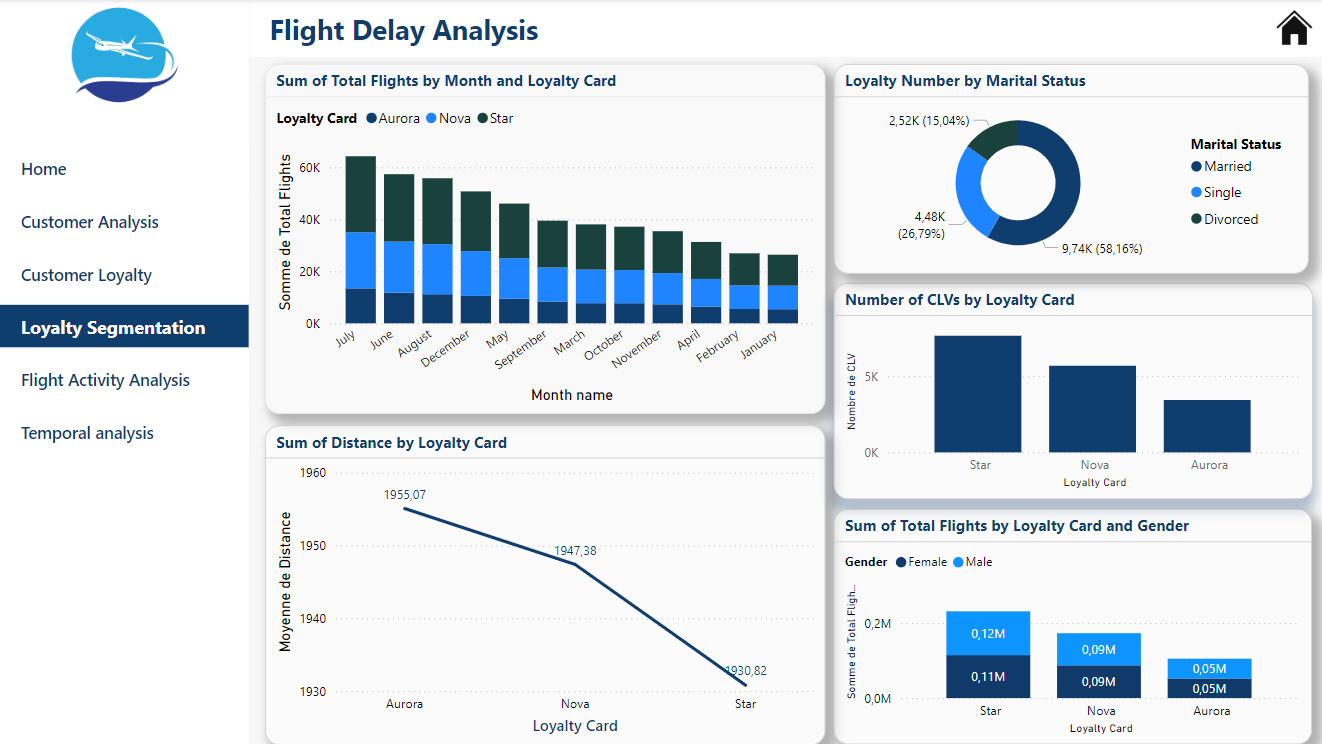

The page's visual inventory and layout, read from the dashboard file:
{"tool":"powerbi","page":{"name":"Loyalty Segmentation","canvas":[1280,720],"ordinal":3},"visuals":[{"type":"shape","box":[0,0,240.1,720.4],"z":0},{"type":"shape","box":[239.9,0,1040.1,56.3],"z":1000},{"type":"image","box":[60,0,118.6,107.1],"z":2000},{"type":"image","box":[1218.6,0,61.4,55.7],"z":3000},{"type":"pageNavigator","box":[0,142.4,240.1,298],"z":4000},{"type":"columnChart","title":"Sum of Total Flights by Month and Loyalty Card","fields":{"Series":["Customer Loyalty History.Loyalty Card"],"Y":["Sum(Customer Flight Activity.Total Flights)"],"Category":["Customer Flight Activity.Month name"]},"box":[255.8,62.7,540.5,337.8],"z":5000},{"type":"lineChart","title":"Sum of Distance by Loyalty Card","fields":{"Y":["Avg(Customer Flight Activity.Distance)"],"Category":["Customer Loyalty History.Loyalty Card"]},"box":[255.8,411.4,540.5,308.8],"z":6000},{"type":"clusteredColumnChart","title":"Number of CLVs by Loyalty Card","fields":{"Category":["Customer Loyalty History.Loyalty Card"],"Y":["CountNonNull(Customer Loyalty History.CLV)"]},"box":[804.7,273.9,462.1,208.7],"z":7000},{"type":"columnChart","title":"Sum of Total Flights by Loyalty Card and Gender","fields":{"Category":["Customer Loyalty History.Loyalty Card"],"Series":["Customer Loyalty History.Gender"],"Y":["Sum(Customer Flight Activity.Total Flights)"]},"box":[805,492.5,461.2,227.5],"z":8000},{"type":"donutChart","title":"Loyalty Number by Marital Status","fields":{"Category":["Customer Loyalty History.Marital Status"],"Y":["CountNonNull(Customer Loyalty History.Loyalty Number)"]},"box":[804.7,62.7,458.4,202.7],"z":9000}]}

Visuals, with their boxes on the page's 1280x720 design canvas (x1, y1, x2, y2). These are canvas units, not pixel positions in the 1322x744 screenshot, which may show the page scaled, cropped or inside an application window:
shape: crop(0, 0, 240, 720)
shape: crop(240, 0, 1280, 56)
image: crop(60, 0, 179, 107)
image: crop(1219, 0, 1280, 56)
pageNavigator: crop(0, 142, 240, 440)
"Sum of Total Flights by Month and Loyalty Card" columnChart: crop(256, 63, 796, 400)
"Sum of Distance by Loyalty Card" lineChart: crop(256, 411, 796, 720)
"Number of CLVs by Loyalty Card" clusteredColumnChart: crop(805, 274, 1267, 483)
"Sum of Total Flights by Loyalty Card and Gender" columnChart: crop(805, 492, 1266, 720)
"Loyalty Number by Marital Status" donutChart: crop(805, 63, 1263, 265)
